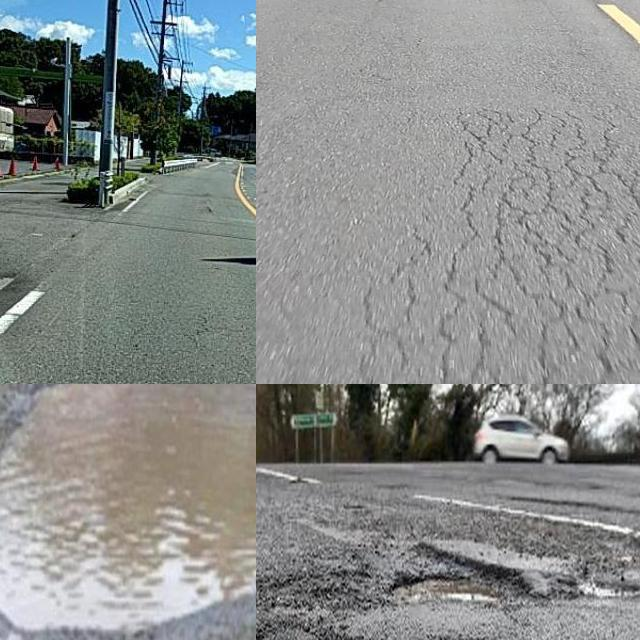Lubang: (0, 384, 256, 640), (390, 568, 542, 603)
Retak Buaya: (342, 112, 640, 384)
